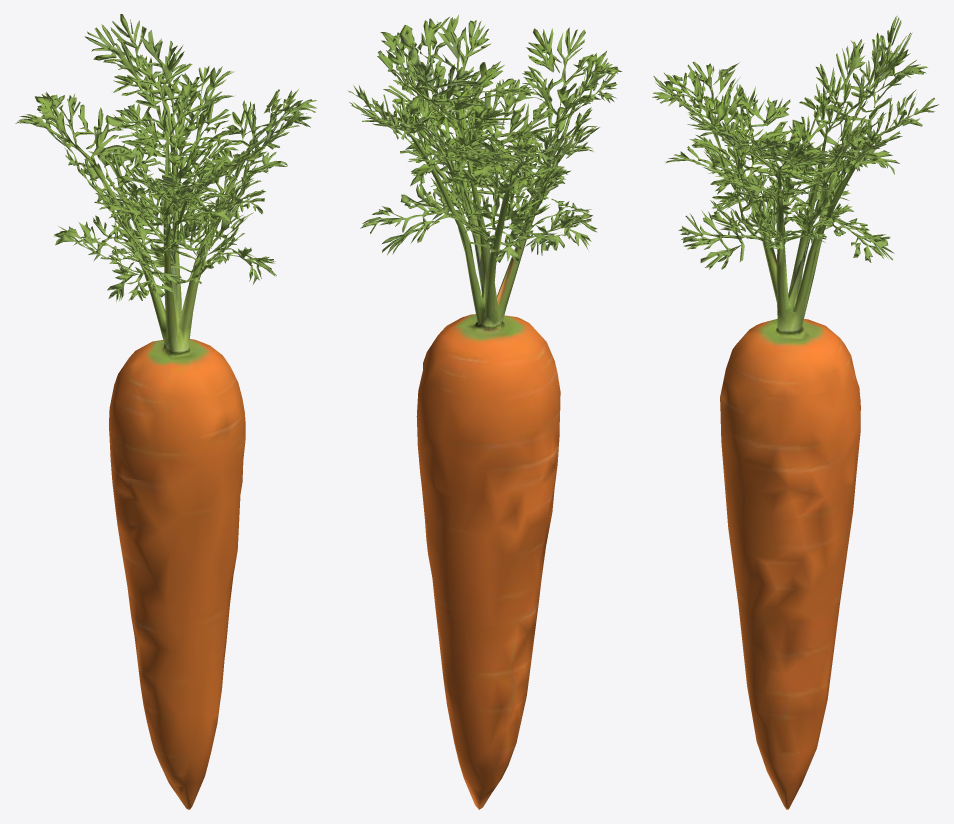
The model's file is carrot.glb.
3 renders of one model, left to right at view 1: azimuth 30°, elevation 25°; view 2: azimuth 150°, elevation 25°; view 3: azimuth 270°, elevation 25°, orthographic. The views are drawn at different scales.
Bounding box in the file's own units: 0.6195 × 1.9 × 0.6412.
Materials: 1 (1 with a texture image).
